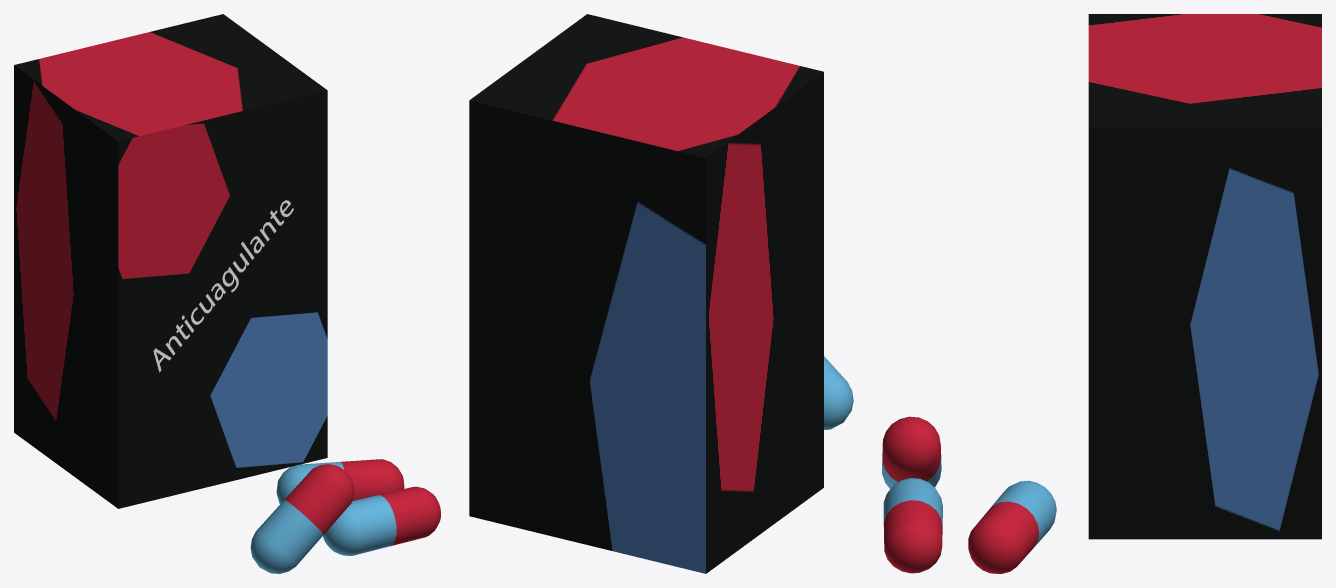
Rendered from anticuagulante.FBX.
3 views of the same model, side by side, from view 1: azimuth 30°, elevation 25°; view 2: azimuth 150°, elevation 25°; view 3: azimuth 270°, elevation 25° (orthographic). The views are drawn at different scales.
Visible parts, largest first — view 1: Box009, Sphere010, Sphere011, Sphere009; view 2: Box009, Sphere010; view 3: Box009, Sphere009, Sphere011, Sphere010.
Part boxes in pixels (box(x1,y1,x2,y2)): Box009: box(14, 14, 327, 508); Sphere010: box(250, 464, 354, 573); Sphere011: box(323, 486, 440, 555); Sphere009: box(276, 459, 404, 504); Box009: box(469, 14, 823, 573); Sphere010: box(824, 356, 853, 429); Box009: box(1088, 14, 1321, 539); Sphere009: box(968, 480, 1056, 573); Sphere011: box(883, 478, 942, 573); Sphere010: box(882, 416, 941, 488).
Bounding box in the file's own units: 17.32 × 26.8 × 24.38.
